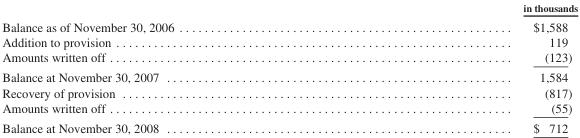table: (1, 1, 577, 134)
table column: (1, 1, 348, 134), (348, 1, 577, 134)
table column header: (1, 1, 577, 16)
table row: (1, 16, 577, 34), (1, 66, 577, 84), (1, 99, 577, 117), (1, 49, 577, 66), (1, 117, 577, 134), (1, 1, 577, 16), (1, 34, 577, 49), (1, 84, 577, 99)
